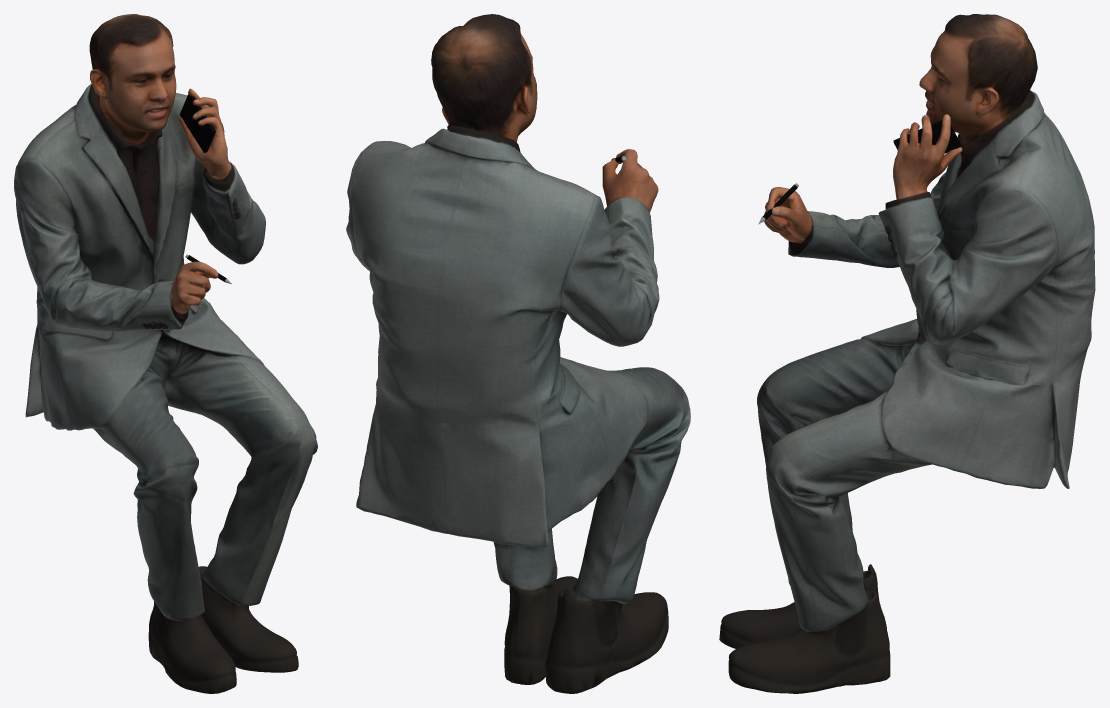
File: 00246_Zeef006.fbx
3 renders of one model, left to right at view 1: azimuth 30°, elevation 25°; view 2: azimuth 150°, elevation 25°; view 3: azimuth 270°, elevation 25°, orthographic. The views are drawn at different scales.
Parts seen in each view (by area): view 1: 00246_Zeef006; view 2: 00246_Zeef006; view 3: 00246_Zeef006.
Boxes of the visible parts, x1,y1,x2,y2 form: 00246_Zeef006: (14, 14, 317, 693); 00246_Zeef006: (346, 14, 690, 693); 00246_Zeef006: (719, 14, 1095, 693).
Size of the model in its own units: 21.33 by 53.48 by 28.14.
4 materials, 1 textured.
